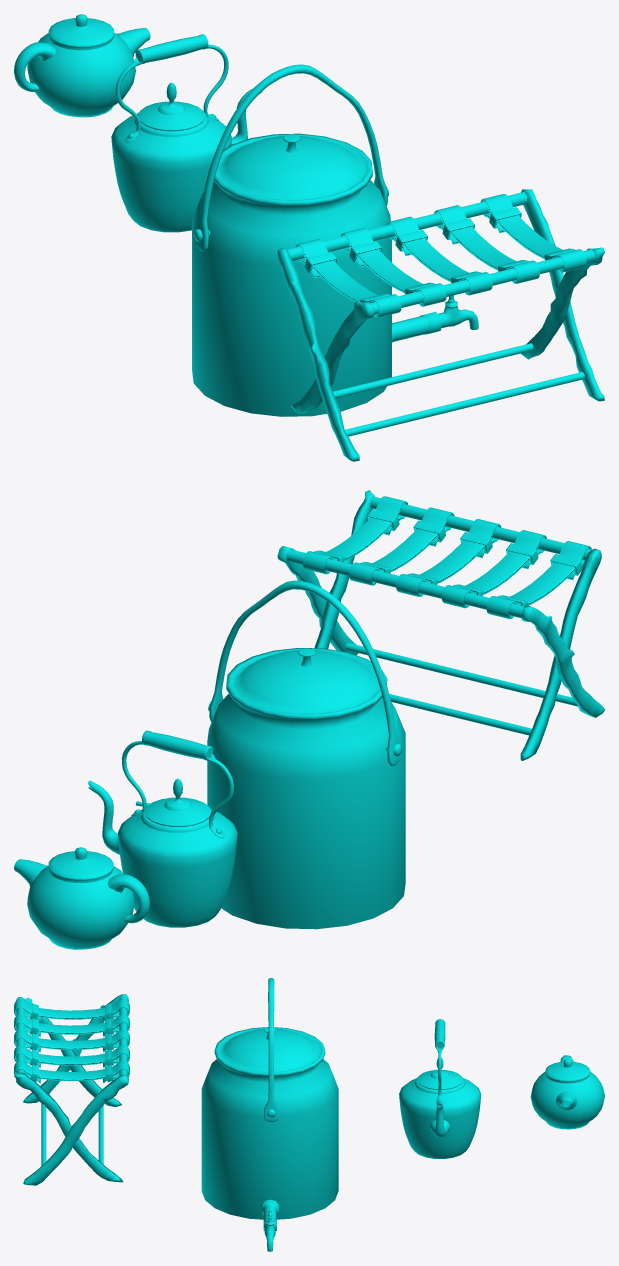
File: Jugs.fbx
3 views of the same model, one above another, from view 1: azimuth 30°, elevation 25°; view 2: azimuth 150°, elevation 25°; view 3: azimuth 270°, elevation 25° (orthographic). The views are drawn at different scales.
Visible parts, largest first — view 1: jug3, stand, jug2, jug1; view 2: jug3, stand, jug2, jug1; view 3: jug3, stand, jug2, jug1.
Part boxes in pixels (x1,y1,x2,y2): jug3: [192, 64, 478, 416]; stand: [277, 189, 604, 461]; jug2: [111, 34, 261, 232]; jug1: [14, 14, 150, 117]; jug3: [135, 580, 405, 929]; stand: [277, 490, 604, 760]; jug2: [88, 730, 237, 927]; jug1: [14, 847, 149, 949]; jug3: [201, 978, 338, 1251]; stand: [14, 994, 129, 1185]; jug2: [399, 1019, 481, 1158]; jug1: [530, 1055, 604, 1129].
Bounding box in the file's own units: 0.5867 × 0.5543 × 1.42.
